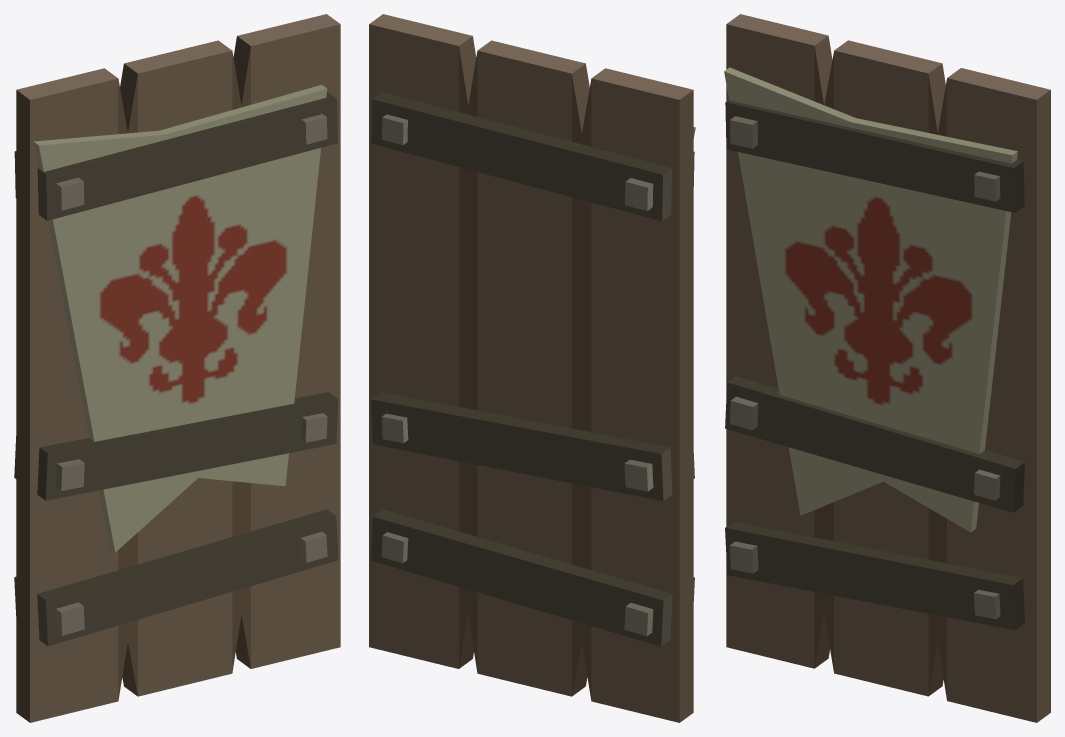
Rendered from SF_Wep_Goblin_Shield_012.fbx.
3 renders of one model, left to right at view 1: azimuth 30°, elevation 25°; view 2: azimuth 150°, elevation 25°; view 3: azimuth 330°, elevation 25°, orthographic.
Visible parts, largest first — view 1: SF_Wep_Goblin_Shield_012; view 2: SF_Wep_Goblin_Shield_012; view 3: SF_Wep_Goblin_Shield_012.
Part boxes in pixels (bbox=[...]): SF_Wep_Goblin_Shield_012: bbox=[14, 14, 340, 722]; SF_Wep_Goblin_Shield_012: bbox=[369, 14, 695, 722]; SF_Wep_Goblin_Shield_012: bbox=[724, 14, 1050, 722].
Size of the model in its own units: 0.831 by 1.59 by 0.1957.
